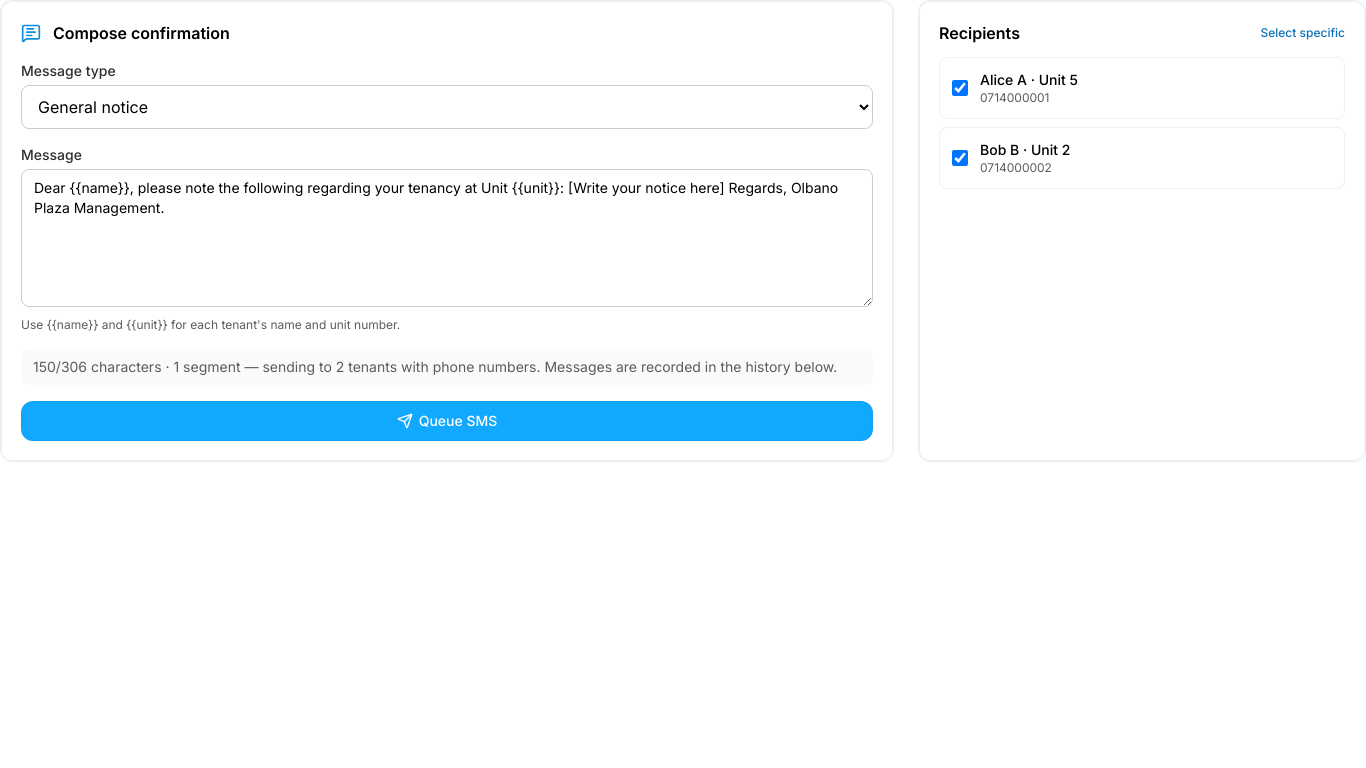
Test: SmsComposer (queue flow) › queues to everyone with a phone when nothing is unchecked
Step 1. Click the button "Queue SMS" → coordinates (447, 421), box x1=21 y1=401 x2=873 y2=441
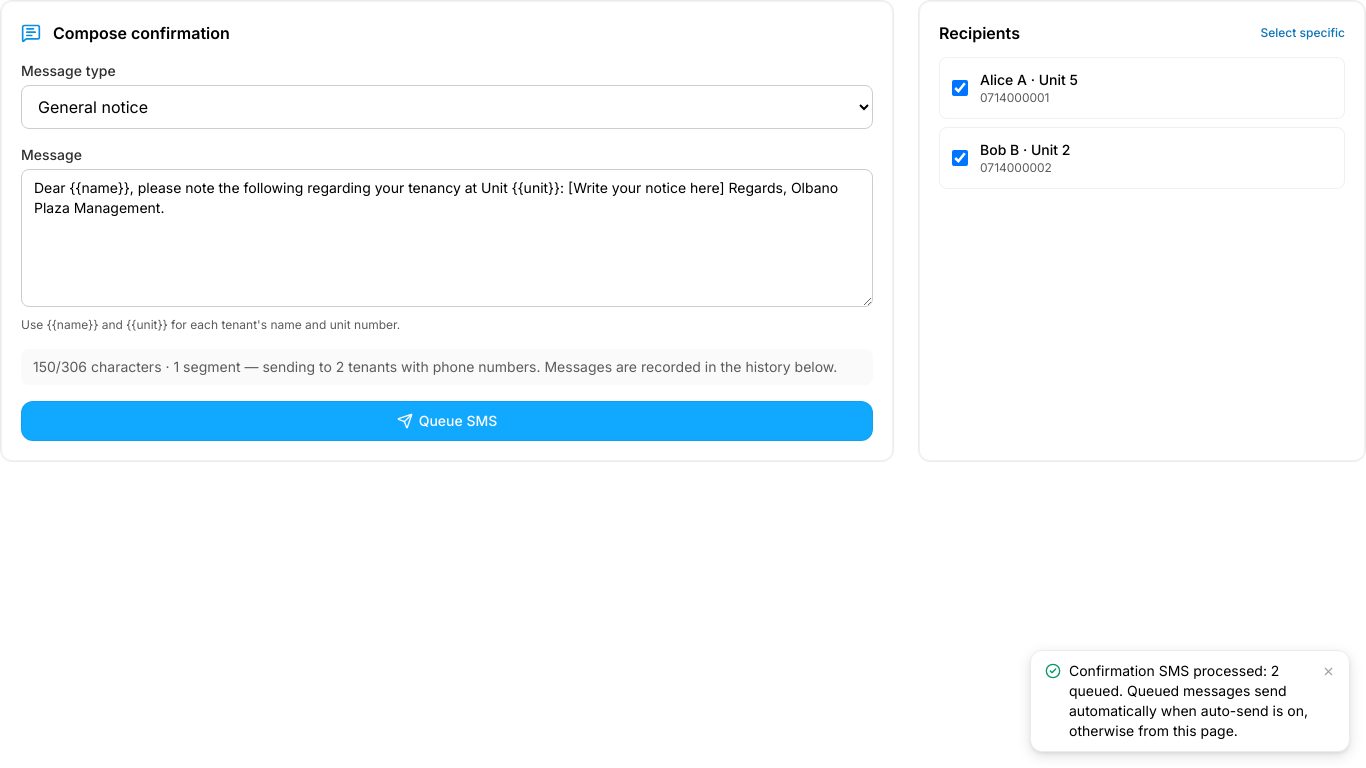
Now the text "2 queued" is shown, box x1=1069 y1=662 x2=1308 y2=739
